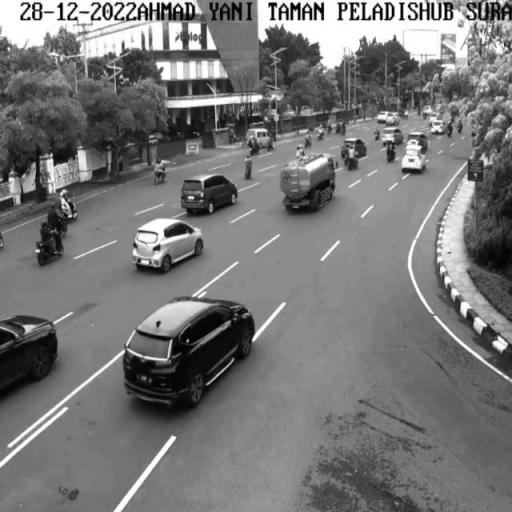car: (122, 293, 253, 409), (0, 315, 56, 399), (133, 219, 207, 270), (182, 174, 238, 217), (400, 146, 426, 174)
motorcycle: (38, 233, 66, 268), (346, 157, 361, 173)
truck: (280, 153, 338, 218)
